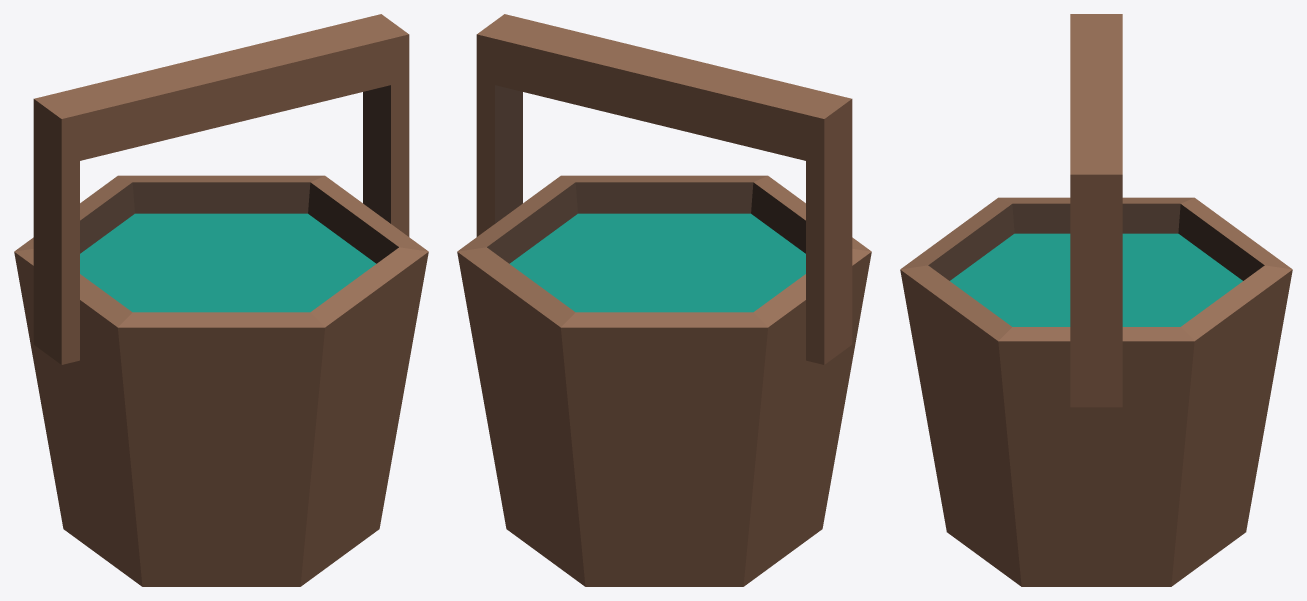
Rendered from TB_Prop_Bucket_Water_A.FBX.
3 views of the same model, side by side, from view 1: azimuth 30°, elevation 25°; view 2: azimuth 150°, elevation 25°; view 3: azimuth 270°, elevation 25° (orthographic). The views are drawn at different scales.
Parts seen in each view (by area): view 1: TB_Prop_Bucket_Water_A; view 2: TB_Prop_Bucket_Water_A; view 3: TB_Prop_Bucket_Water_A.
Boxes of the visible parts, <box> form: TB_Prop_Bucket_Water_A: <box>14,14,428,586</box>; TB_Prop_Bucket_Water_A: <box>457,14,871,586</box>; TB_Prop_Bucket_Water_A: <box>900,14,1292,586</box>.
Size of the model in its own units: 0.5879 by 0.7477 by 0.6076.
